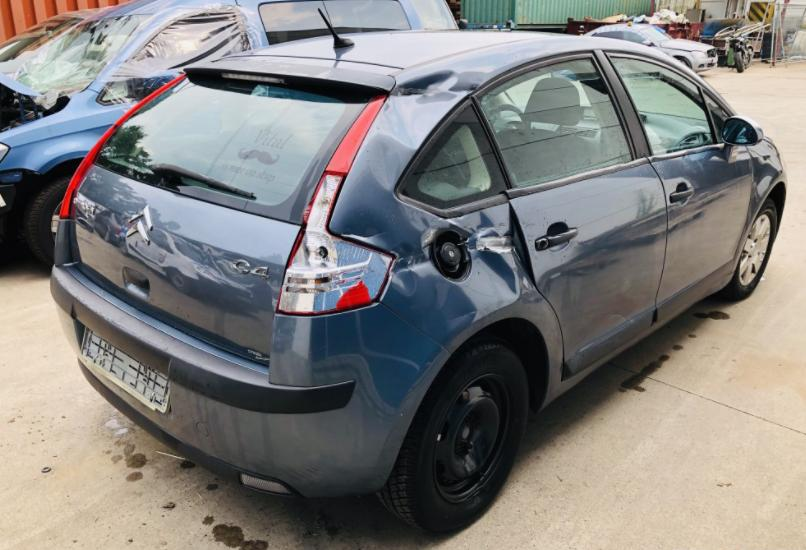Back-bumper: (47, 218, 452, 496)
Back-door: (470, 51, 668, 383)
Back-wheel: (379, 337, 529, 533)
Back-window: (471, 51, 640, 195), (404, 108, 505, 207)
Back-windshield: (95, 73, 375, 221)
Fender: (734, 140, 785, 270)
Front-bumper: (772, 142, 787, 209)
Front-door: (603, 51, 753, 321)
Front-wheel: (723, 197, 778, 300)
Front-window: (597, 53, 729, 163)
License-plate: (79, 328, 172, 413)
Mirror: (726, 121, 760, 143)
Quarter-panel: (329, 196, 561, 395)
Rocker-panel: (541, 271, 734, 413)
Roof: (194, 31, 685, 91)
Tail-light: (278, 98, 391, 313), (62, 75, 183, 217)
Trunk: (71, 165, 302, 367)
